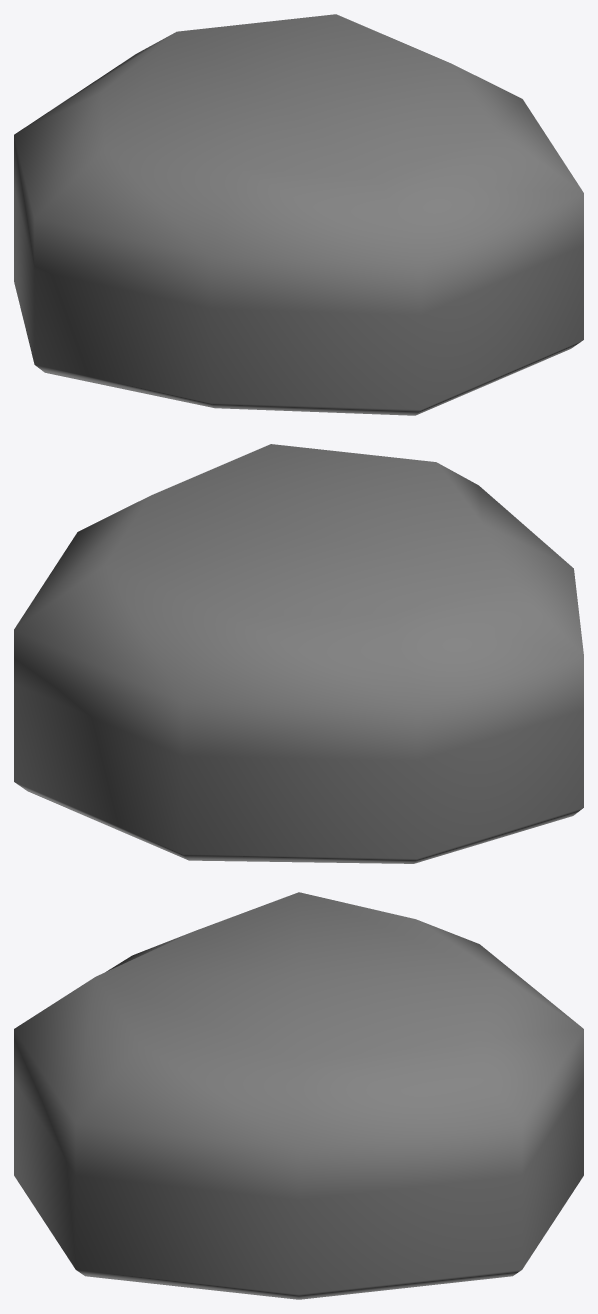
File: ZenRock_02.fbx
The picture shows the model from 3 angles, top to bottom: view 1: azimuth 30°, elevation 25°; view 2: azimuth 150°, elevation 25°; view 3: azimuth 270°, elevation 25°; orthographic projection. The views are drawn at different scales.
Parts seen in each view (by area): view 1: ZenRock_02; view 2: ZenRock_02; view 3: ZenRock_02.
Boxes of the visible parts, x1,y1,x2,y2 form: ZenRock_02: (14,14,583,415); ZenRock_02: (14,444,583,863); ZenRock_02: (14,892,583,1299).
Size of the model in its own units: 280 by 115 by 284.
